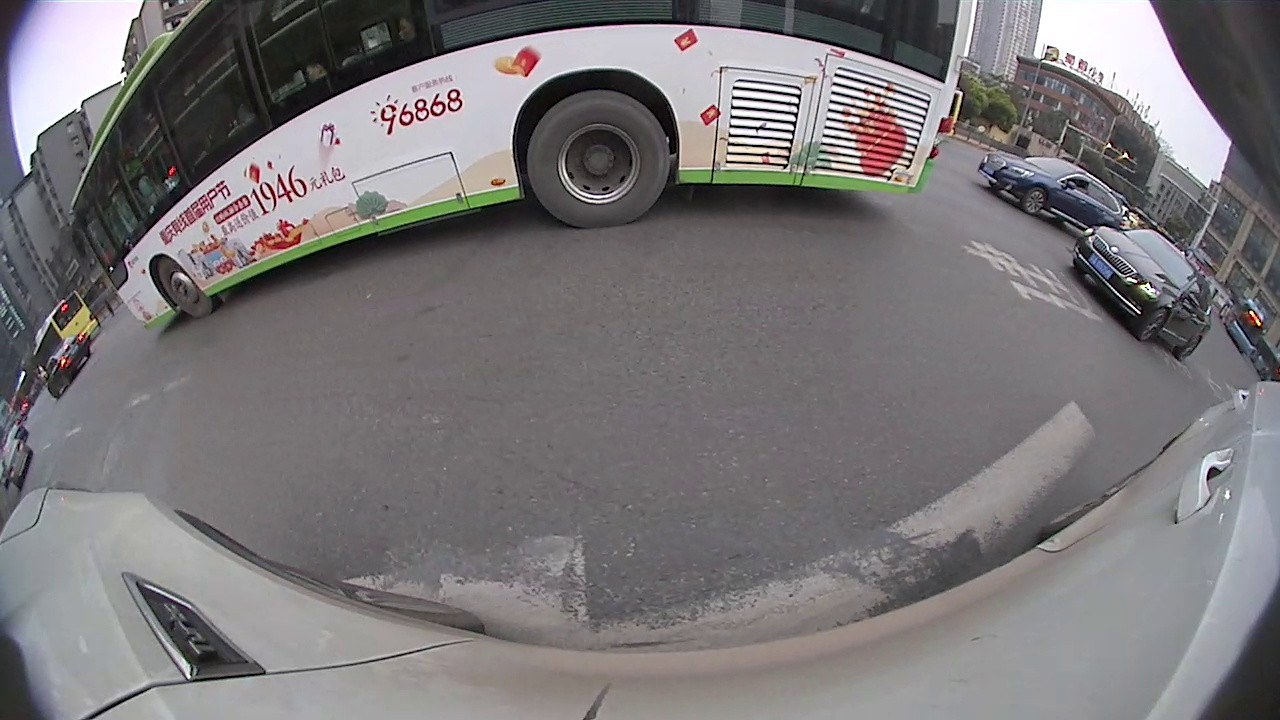bus: (65, 1, 980, 344), (32, 286, 100, 384)
car: (1069, 219, 1215, 363), (981, 151, 1131, 230), (38, 331, 97, 402)
front: (150, 256, 217, 321), (1133, 307, 1171, 343), (1019, 184, 1047, 214)
rear: (523, 86, 674, 233)
